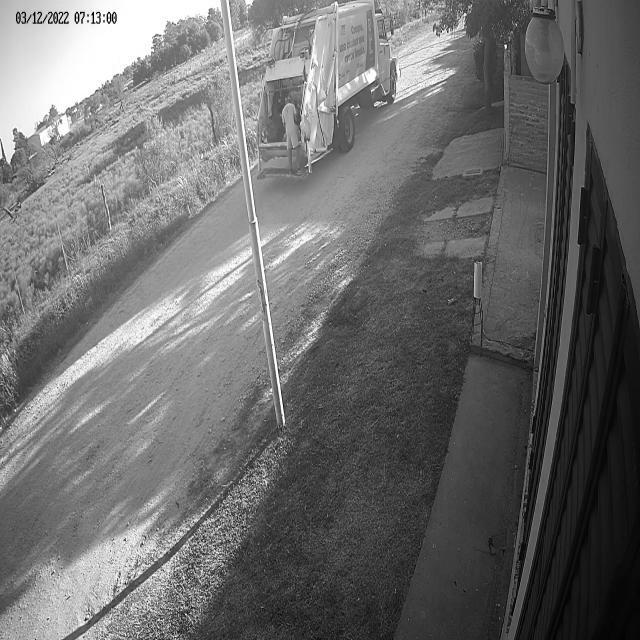Garbage Truck: (257, 0, 400, 180)
